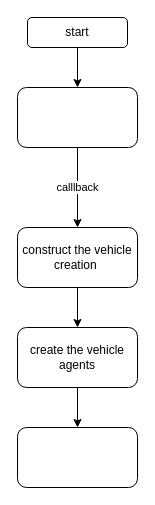
The diagram is 155 pixels wide and 505 high, and some of its shapes have lost their labels. Here are the shapes that lost their labels. From the top down, the centre of each, then its label:
the point at 77,117: call vehicle property
the point at 77,457: update data in add agent schema
